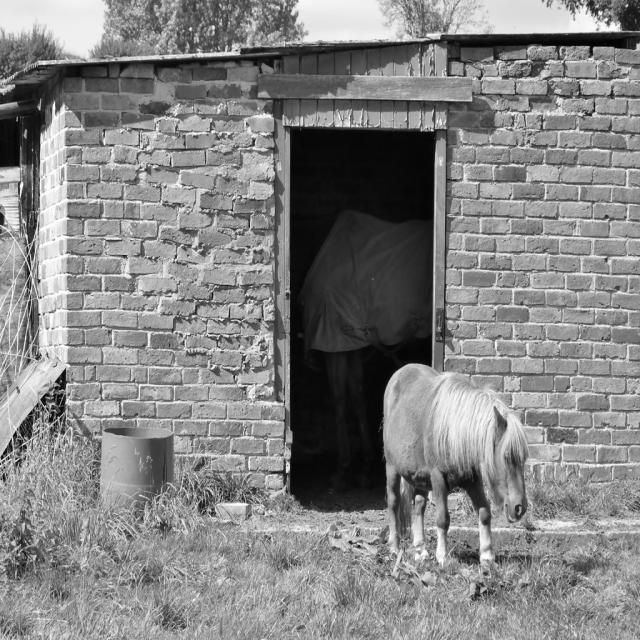Horse: (382, 366, 530, 572)
